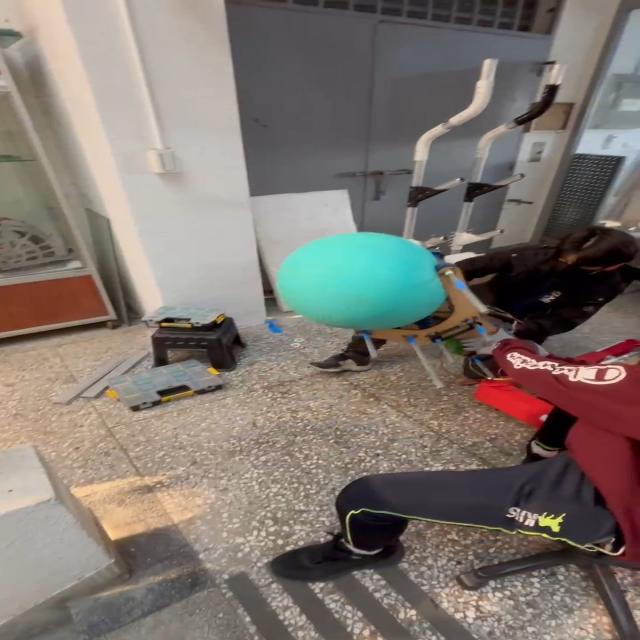ALGAE: (273, 231, 448, 331)
